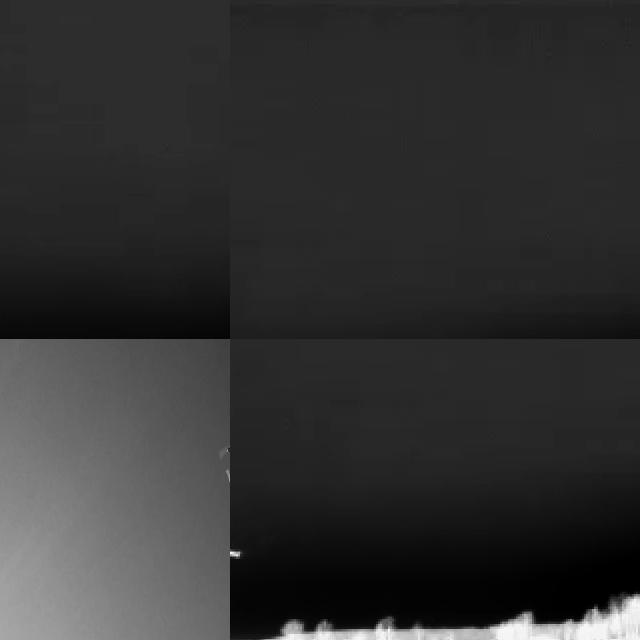1: (230, 541, 251, 571)
drone: (218, 422, 230, 496)
